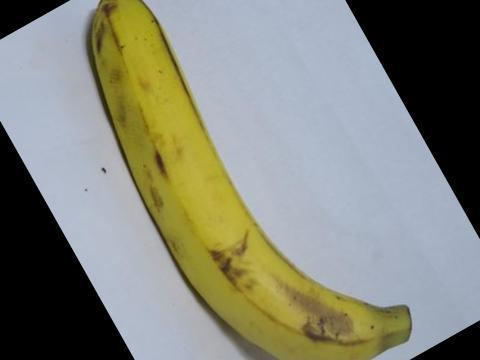ripe: (83, 0, 423, 359)
